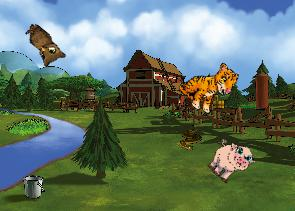owl: (15, 21, 69, 72)
pig: (202, 133, 258, 189)
tiger: (174, 50, 242, 120)
